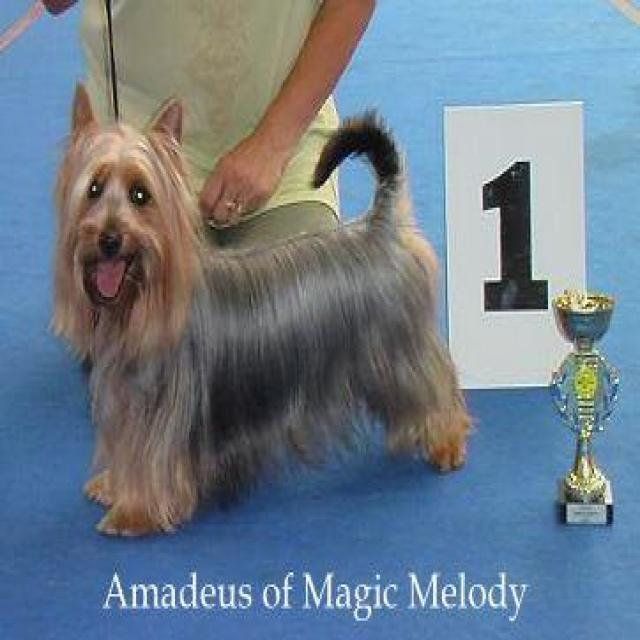happy: (38, 72, 478, 548)
